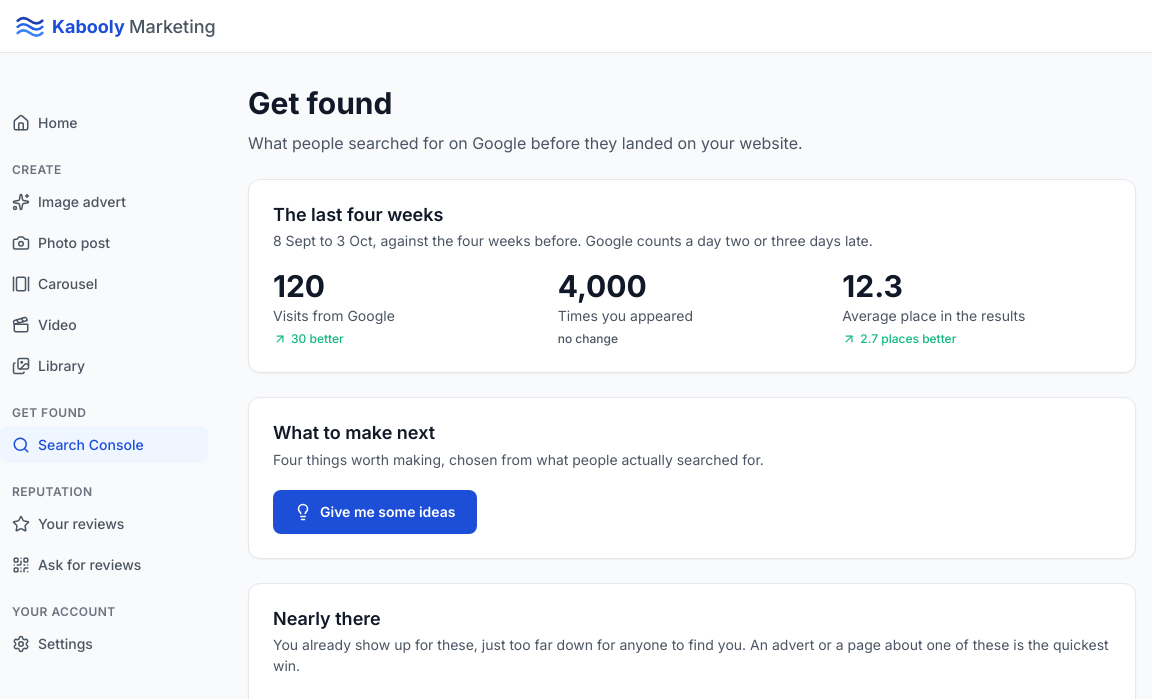
Test case: get found › works out ideas from the real searches and carries one into the create screen
Click the button with test id "ask-ideas": coordinates (375, 512) [273,490,476,534]
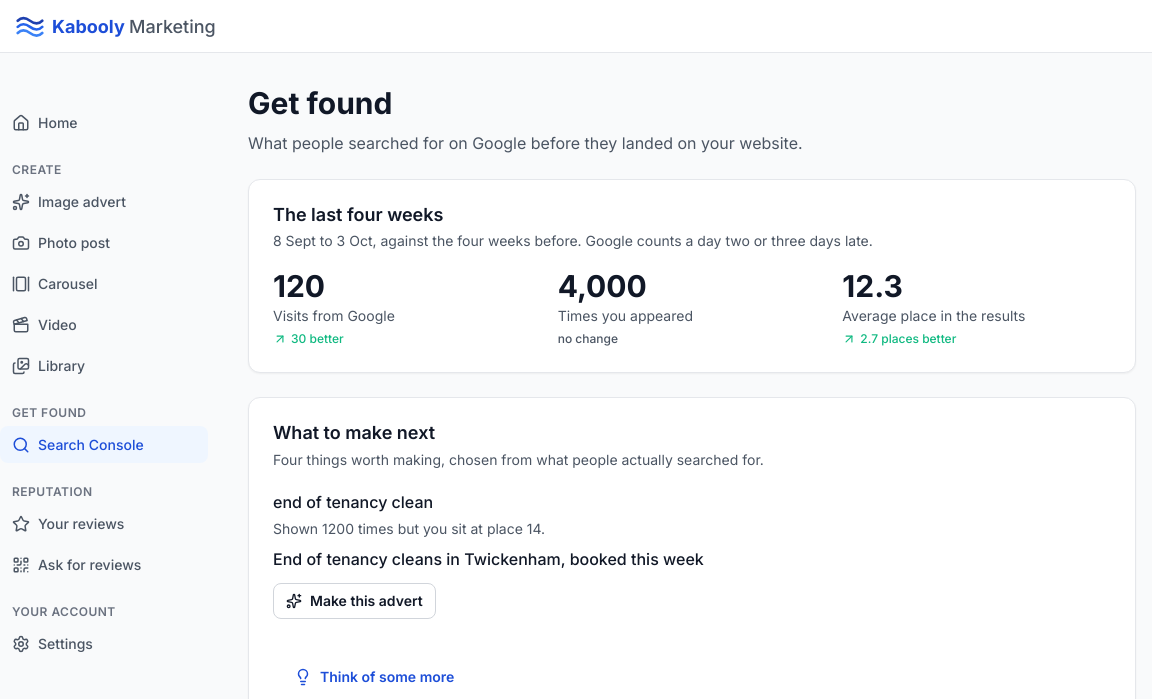
Result: the text "end of tenancy clean" is shown at [273,490,433,514]
Result: the text "Shown 1200 times but you sit at place 14." is shown at [273,518,545,538]
Click the link with test id "make-idea-end of tenancy clean": coordinates (354, 600) [273,582,436,618]
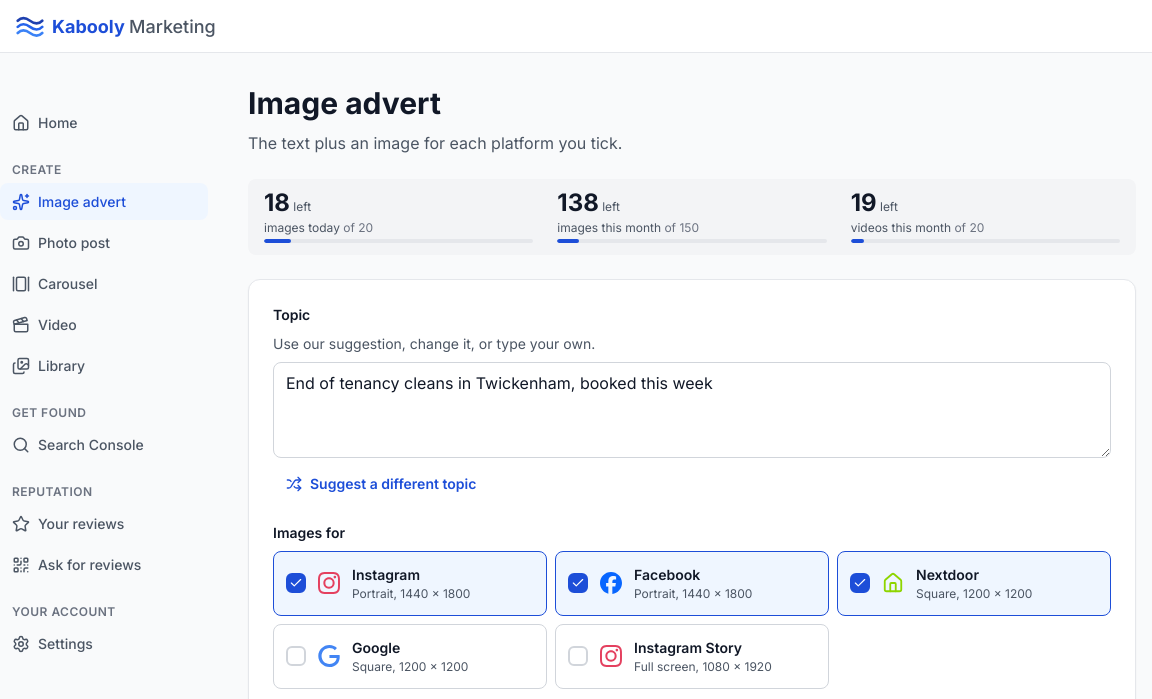
Result: the heading "Image advert" is shown at [248,85,441,121]
Result: the text box with test id "topic-input" holds "End of tenancy cleans in Twickenham, booked this week" at [273,362,1111,458]
